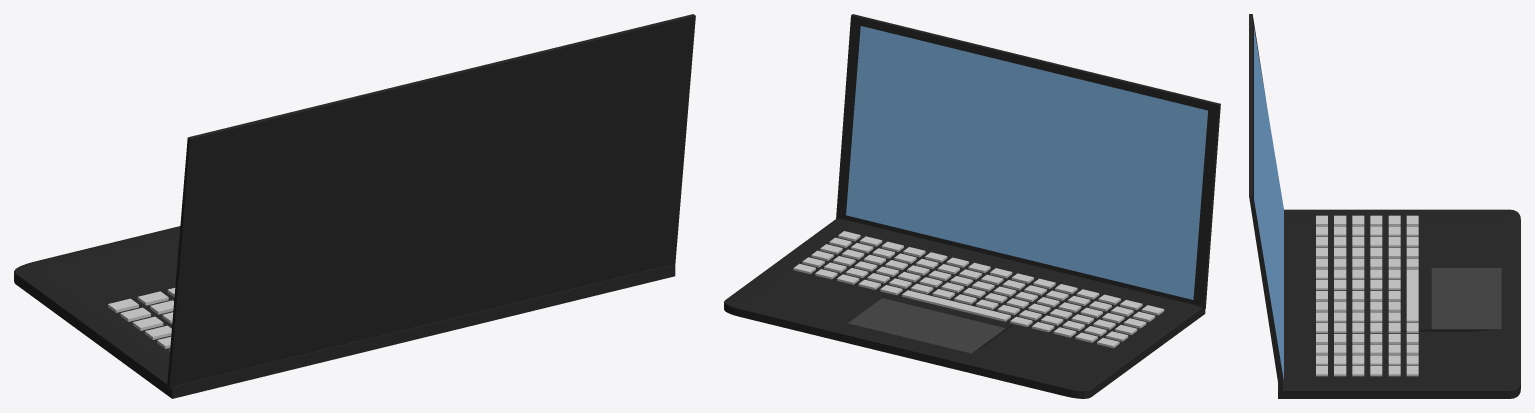
The model's file is Laptop.fbx.
3 views of the same model, side by side, from view 1: azimuth 30°, elevation 25°; view 2: azimuth 150°, elevation 25°; view 3: azimuth 270°, elevation 25° (orthographic). The views are drawn at different scales.
Visible parts, largest first — view 1: Plane; view 2: Plane; view 3: Plane.
Boxes of the visible parts, left/top/right/bottom form: Plane: left=14, top=14, right=695, bottom=398; Plane: left=724, top=14, right=1220, bottom=398; Plane: left=1249, top=14, right=1520, bottom=398.
Size of the model in its own units: 357 by 185 by 225.
